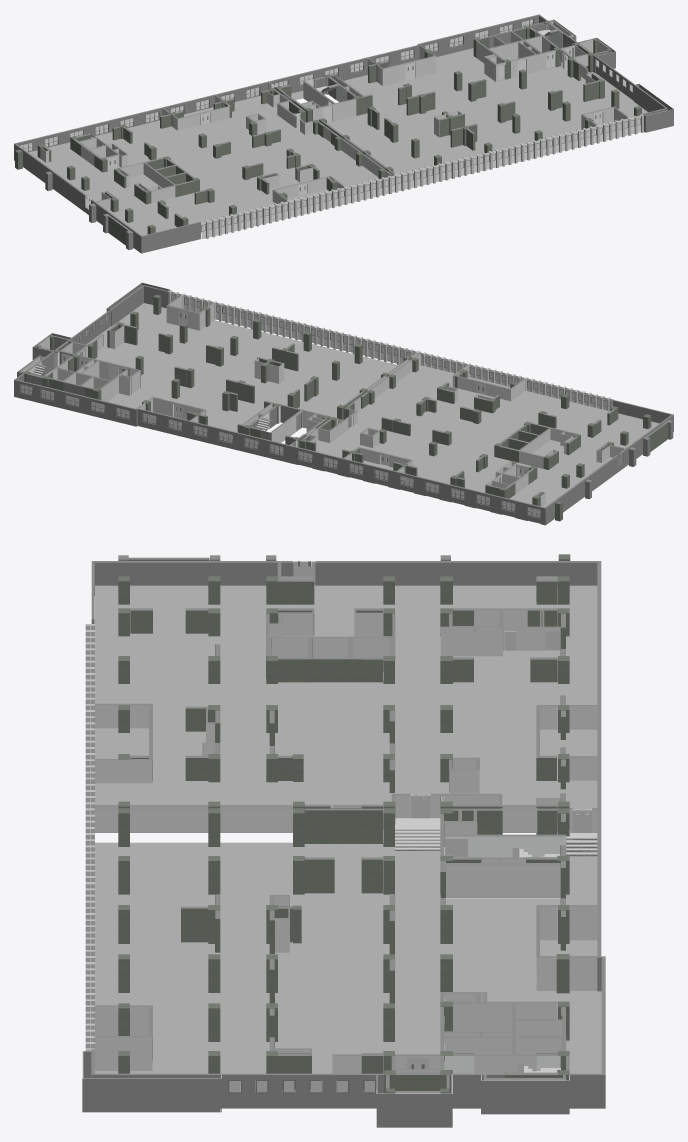
3 views of the same model, one above another, from view 1: azimuth 30°, elevation 25°; view 2: azimuth 150°, elevation 25°; view 3: azimuth 270°, elevation 25° (orthographic). The views are drawn at different scales.
Parts seen in each view (by area): view 1: Floors, Walls, Structural Columns, Curtain Wall Mullions, Curtain Panels, Windows, Doors; view 2: Floors, Walls, Structural Columns, Windows, Curtain Wall Mullions, Curtain Panels, Doors; view 3: Floors, Walls, Structural Columns, Curtain Panels, Curtain Wall Mullions, Stairs, Doors, Windows.
Part boxes in pixels (x1,y1,x2,y2): Floors: (28, 48, 647, 235); Walls: (14, 14, 667, 253); Structural Columns: (15, 20, 641, 249); Curtain Wall Mullions: (204, 114, 643, 238); Curtain Panels: (201, 19, 673, 239); Windows: (20, 19, 640, 231); Doors: (85, 47, 603, 209); Floors: (86, 303, 659, 511); Walls: (14, 285, 673, 525); Structural Columns: (23, 294, 673, 521); Windows: (21, 294, 612, 522); Curtain Wall Mullions: (168, 290, 610, 410); Curtain Panels: (17, 282, 613, 410); Doors: (61, 310, 622, 485); Floors: (95, 584, 601, 1092); Walls: (91, 557, 605, 1108); Structural Columns: (118, 554, 570, 1093); Curtain Panels: (82, 620, 569, 1127); Curtain Wall Mullions: (85, 624, 94, 1077); Stairs: (395, 818, 597, 1072); Doors: (293, 561, 591, 1069); Windows: (228, 1080, 376, 1093).
Size of the model in its own units: 85.5 by 2.5 by 35.03.
Materials: 15 (3 with a texture image).
